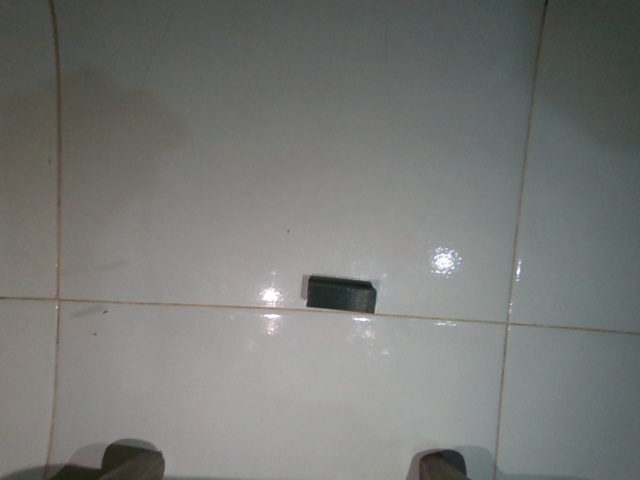Balok-Hitam: (309, 276, 370, 309)
